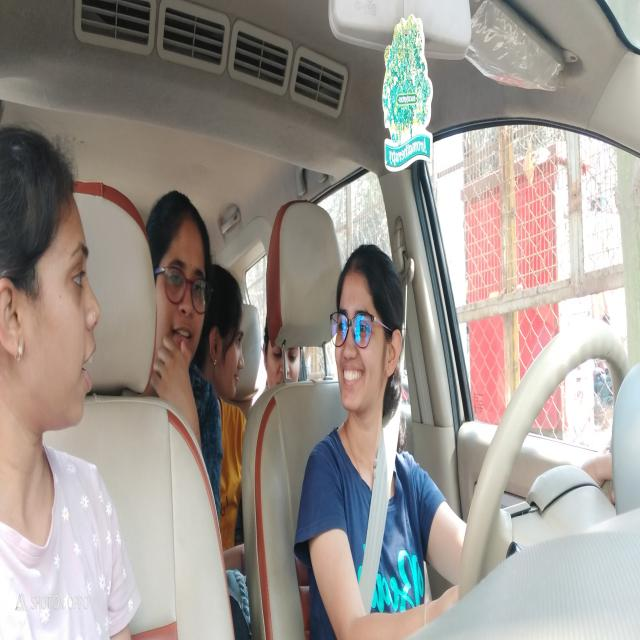LeftRight: (332, 236, 410, 424)
person: (0, 114, 103, 457), (146, 185, 212, 375), (205, 256, 248, 406), (263, 313, 307, 400)
talking: (80, 340, 99, 394), (340, 360, 366, 394)
